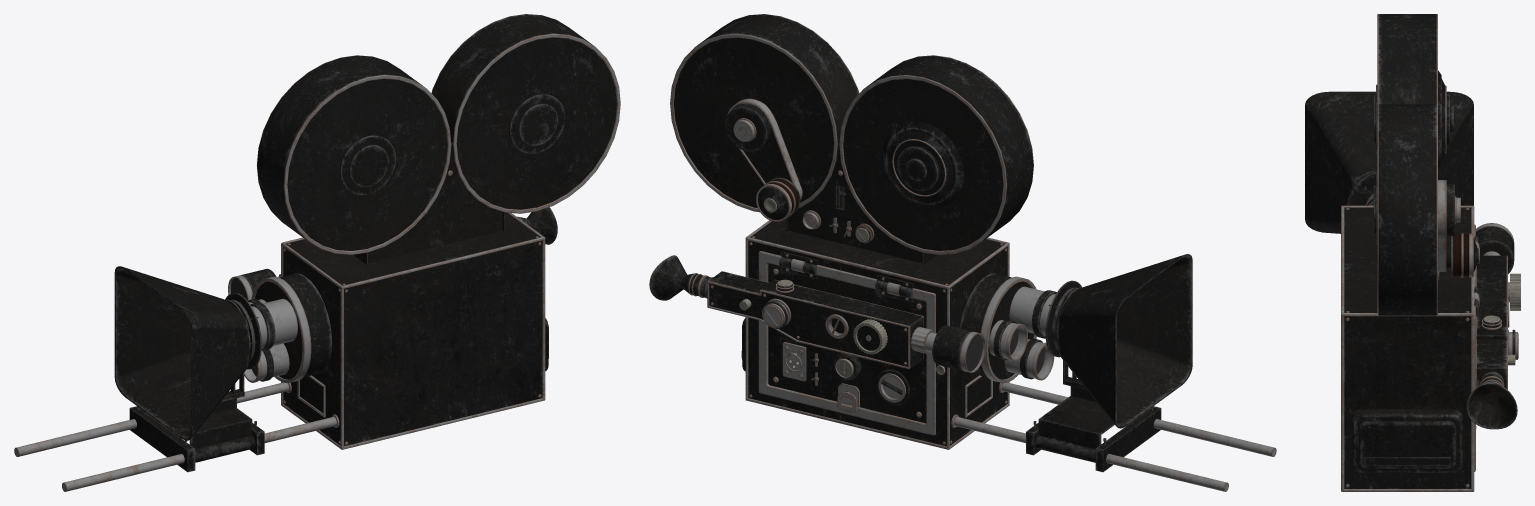
The model's file is 1930s_movie_camera.glb.
3 renders of one model, left to right at view 1: azimuth 30°, elevation 25°; view 2: azimuth 150°, elevation 25°; view 3: azimuth 270°, elevation 25°, orthographic. The views are drawn at different scales.
Parts seen in each view (by area): view 1: Camera, Lenses, Eyepiece; view 2: Camera, Eyepiece, Lenses, Handle; view 3: Camera, Eyepiece, Handle.
Part boxes in pixels (bbox=[...]): Camera: bbox=[14, 14, 620, 491]; Lenses: bbox=[244, 273, 331, 383]; Eyepiece: bbox=[228, 207, 557, 300]; Camera: bbox=[670, 14, 1276, 491]; Eyepiece: bbox=[649, 255, 985, 372]; Lenses: bbox=[960, 273, 1056, 383]; Handle: bbox=[727, 98, 802, 221]; Camera: bbox=[1305, 14, 1479, 491]; Eyepiece: bbox=[1466, 223, 1520, 429]; Handle: bbox=[1438, 180, 1479, 277].
Bounding box in the file's own units: 121 × 71.16 × 36.37.
3 materials, 3 textured.
